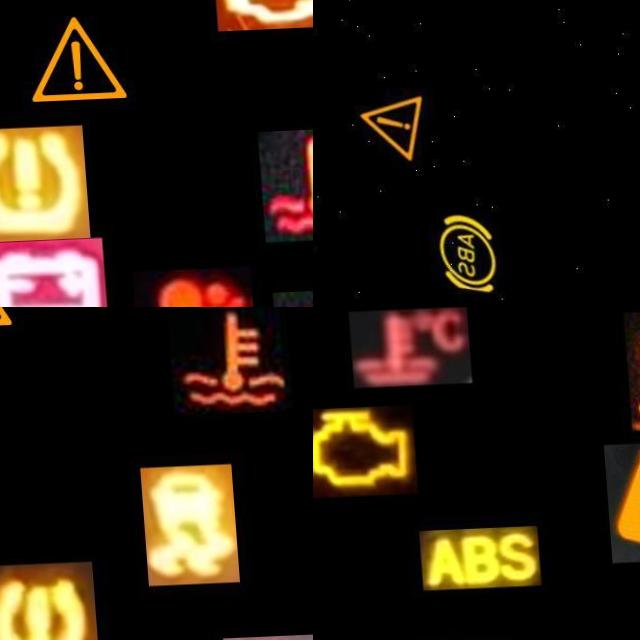Central Warning lamp: (12, 0, 137, 121), (601, 446, 640, 567)
Engine cooling system: (162, 307, 287, 418), (348, 310, 471, 390), (254, 130, 313, 245)
